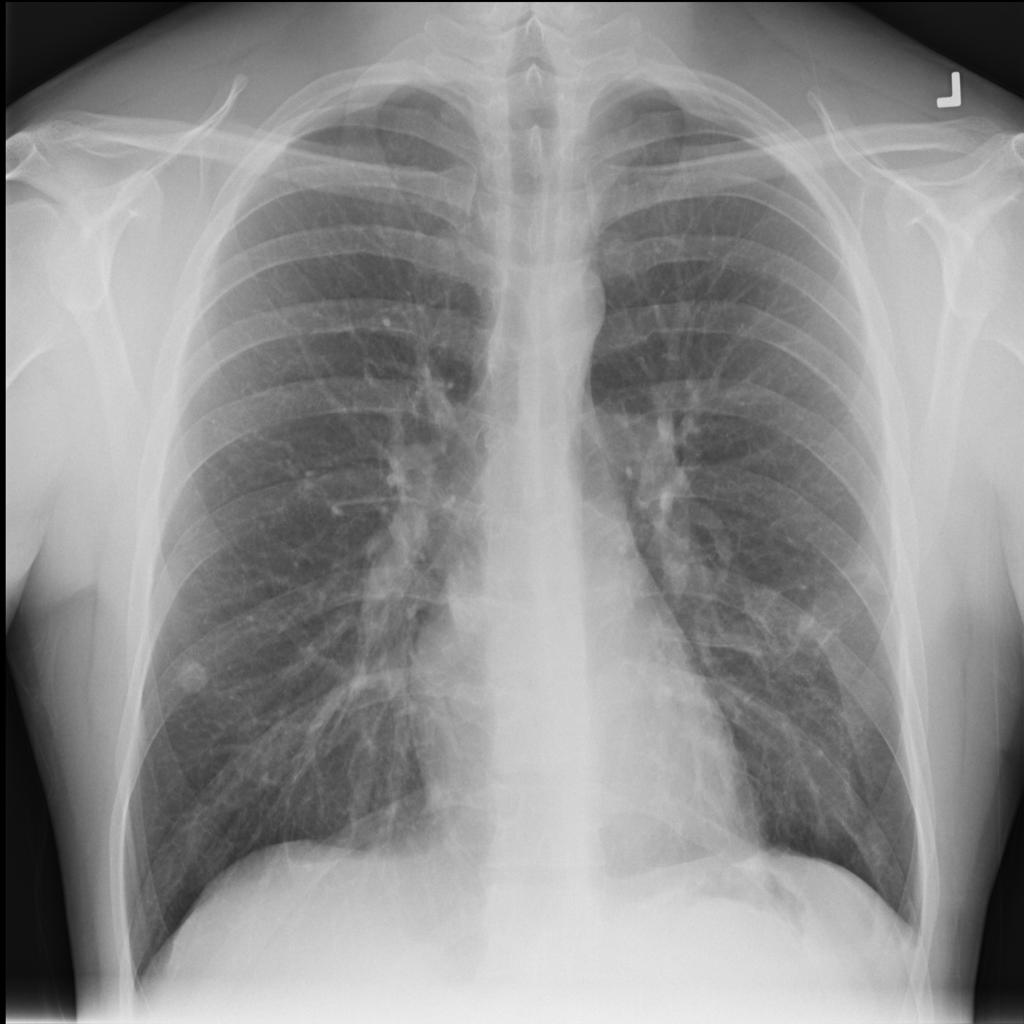nodule: (168, 645, 218, 701)
